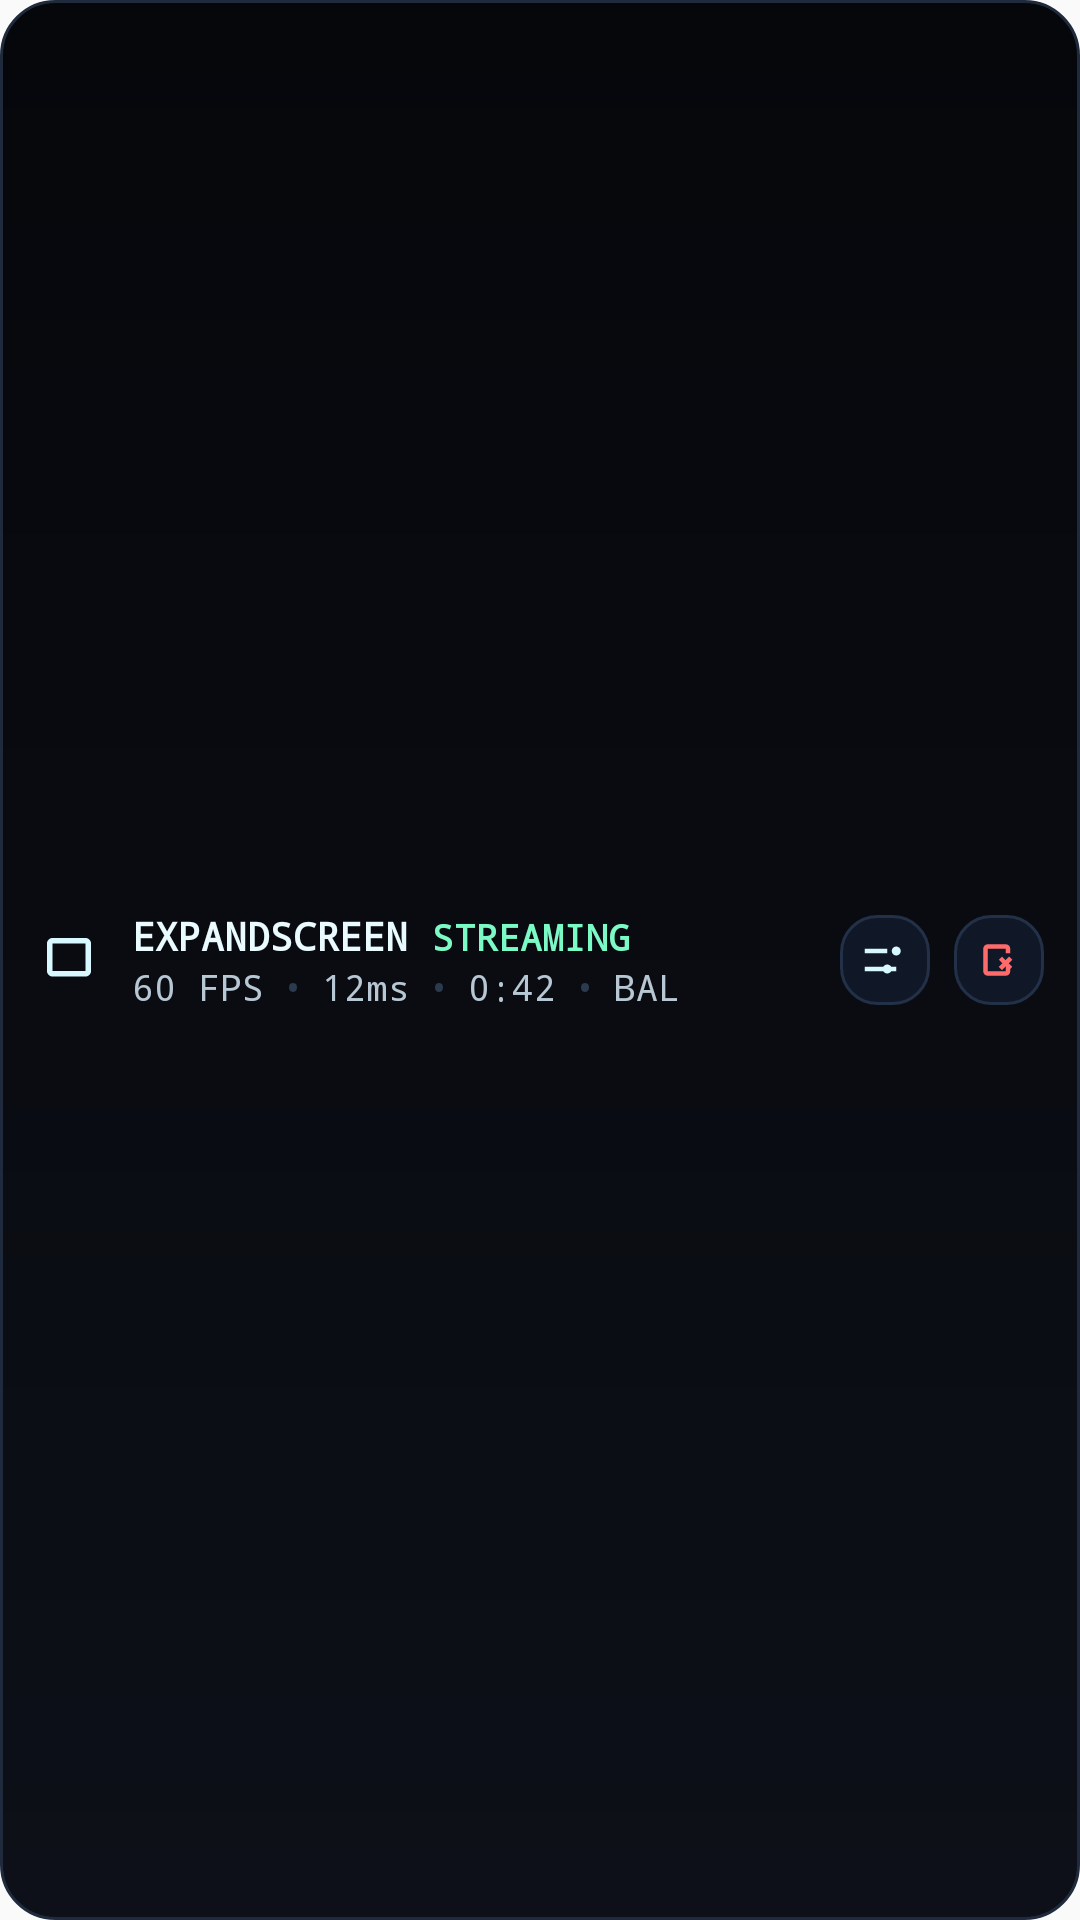

Icon bounding boxes for this 1080x1920 phone screenshot, format (x1, y1, x2, y2):
notif disconnect: (954, 915, 1044, 1005)
notif tune: (840, 915, 930, 1005)
